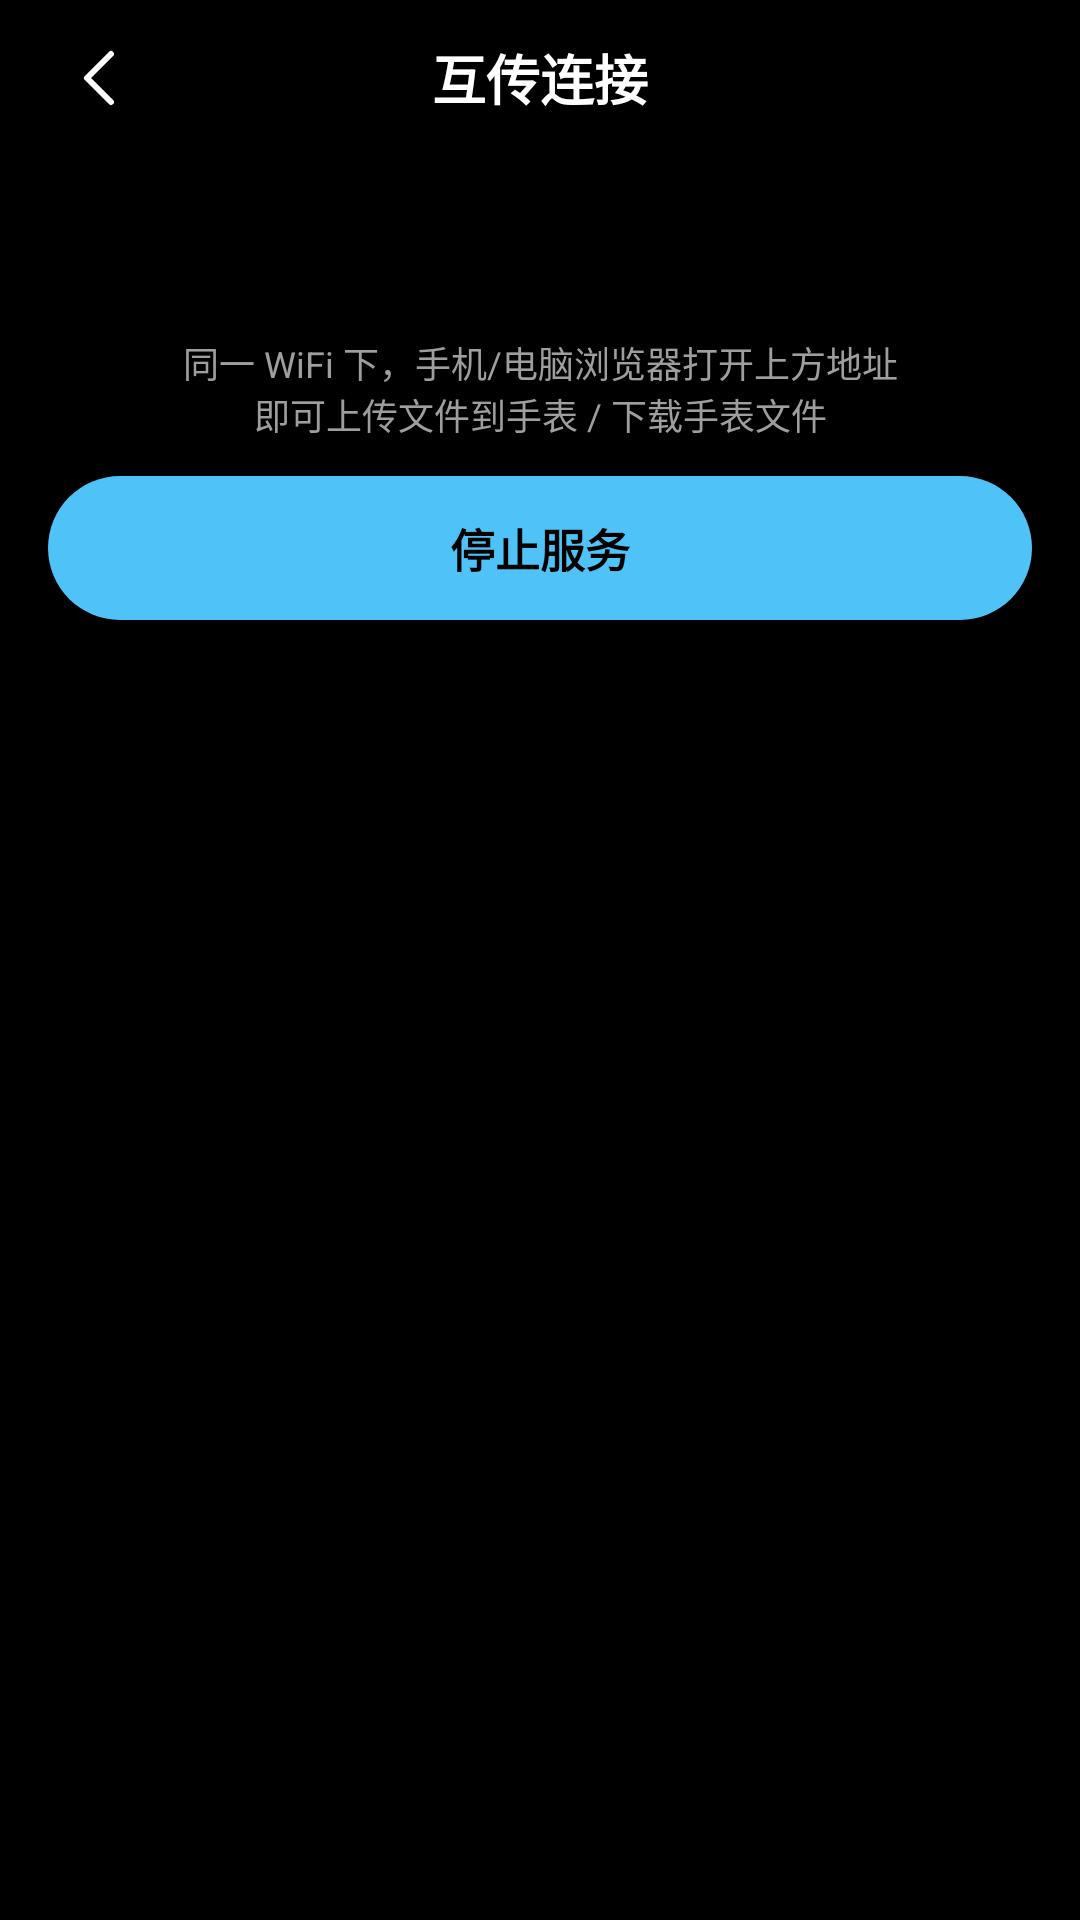

Icon bounding boxes for this 1080px x 1920px phone screenshot, format detection(x1, y1, x2, y2):
返回: detection(84, 50, 114, 105)
